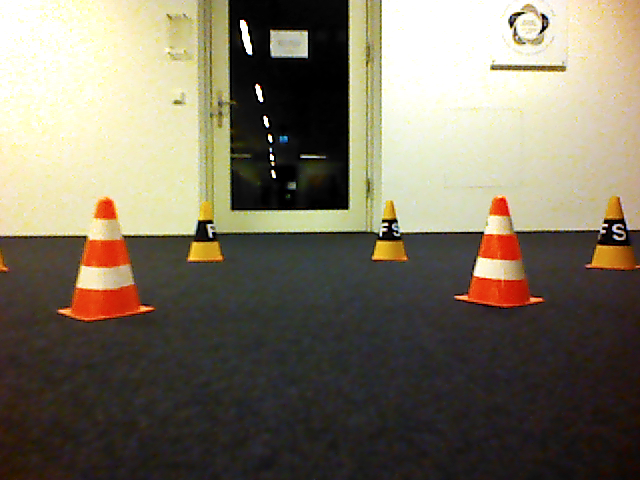orangeconesmall: (55, 195, 157, 323), (452, 193, 546, 310)
yellowcone: (586, 195, 640, 272), (370, 200, 410, 263), (186, 201, 225, 265)
